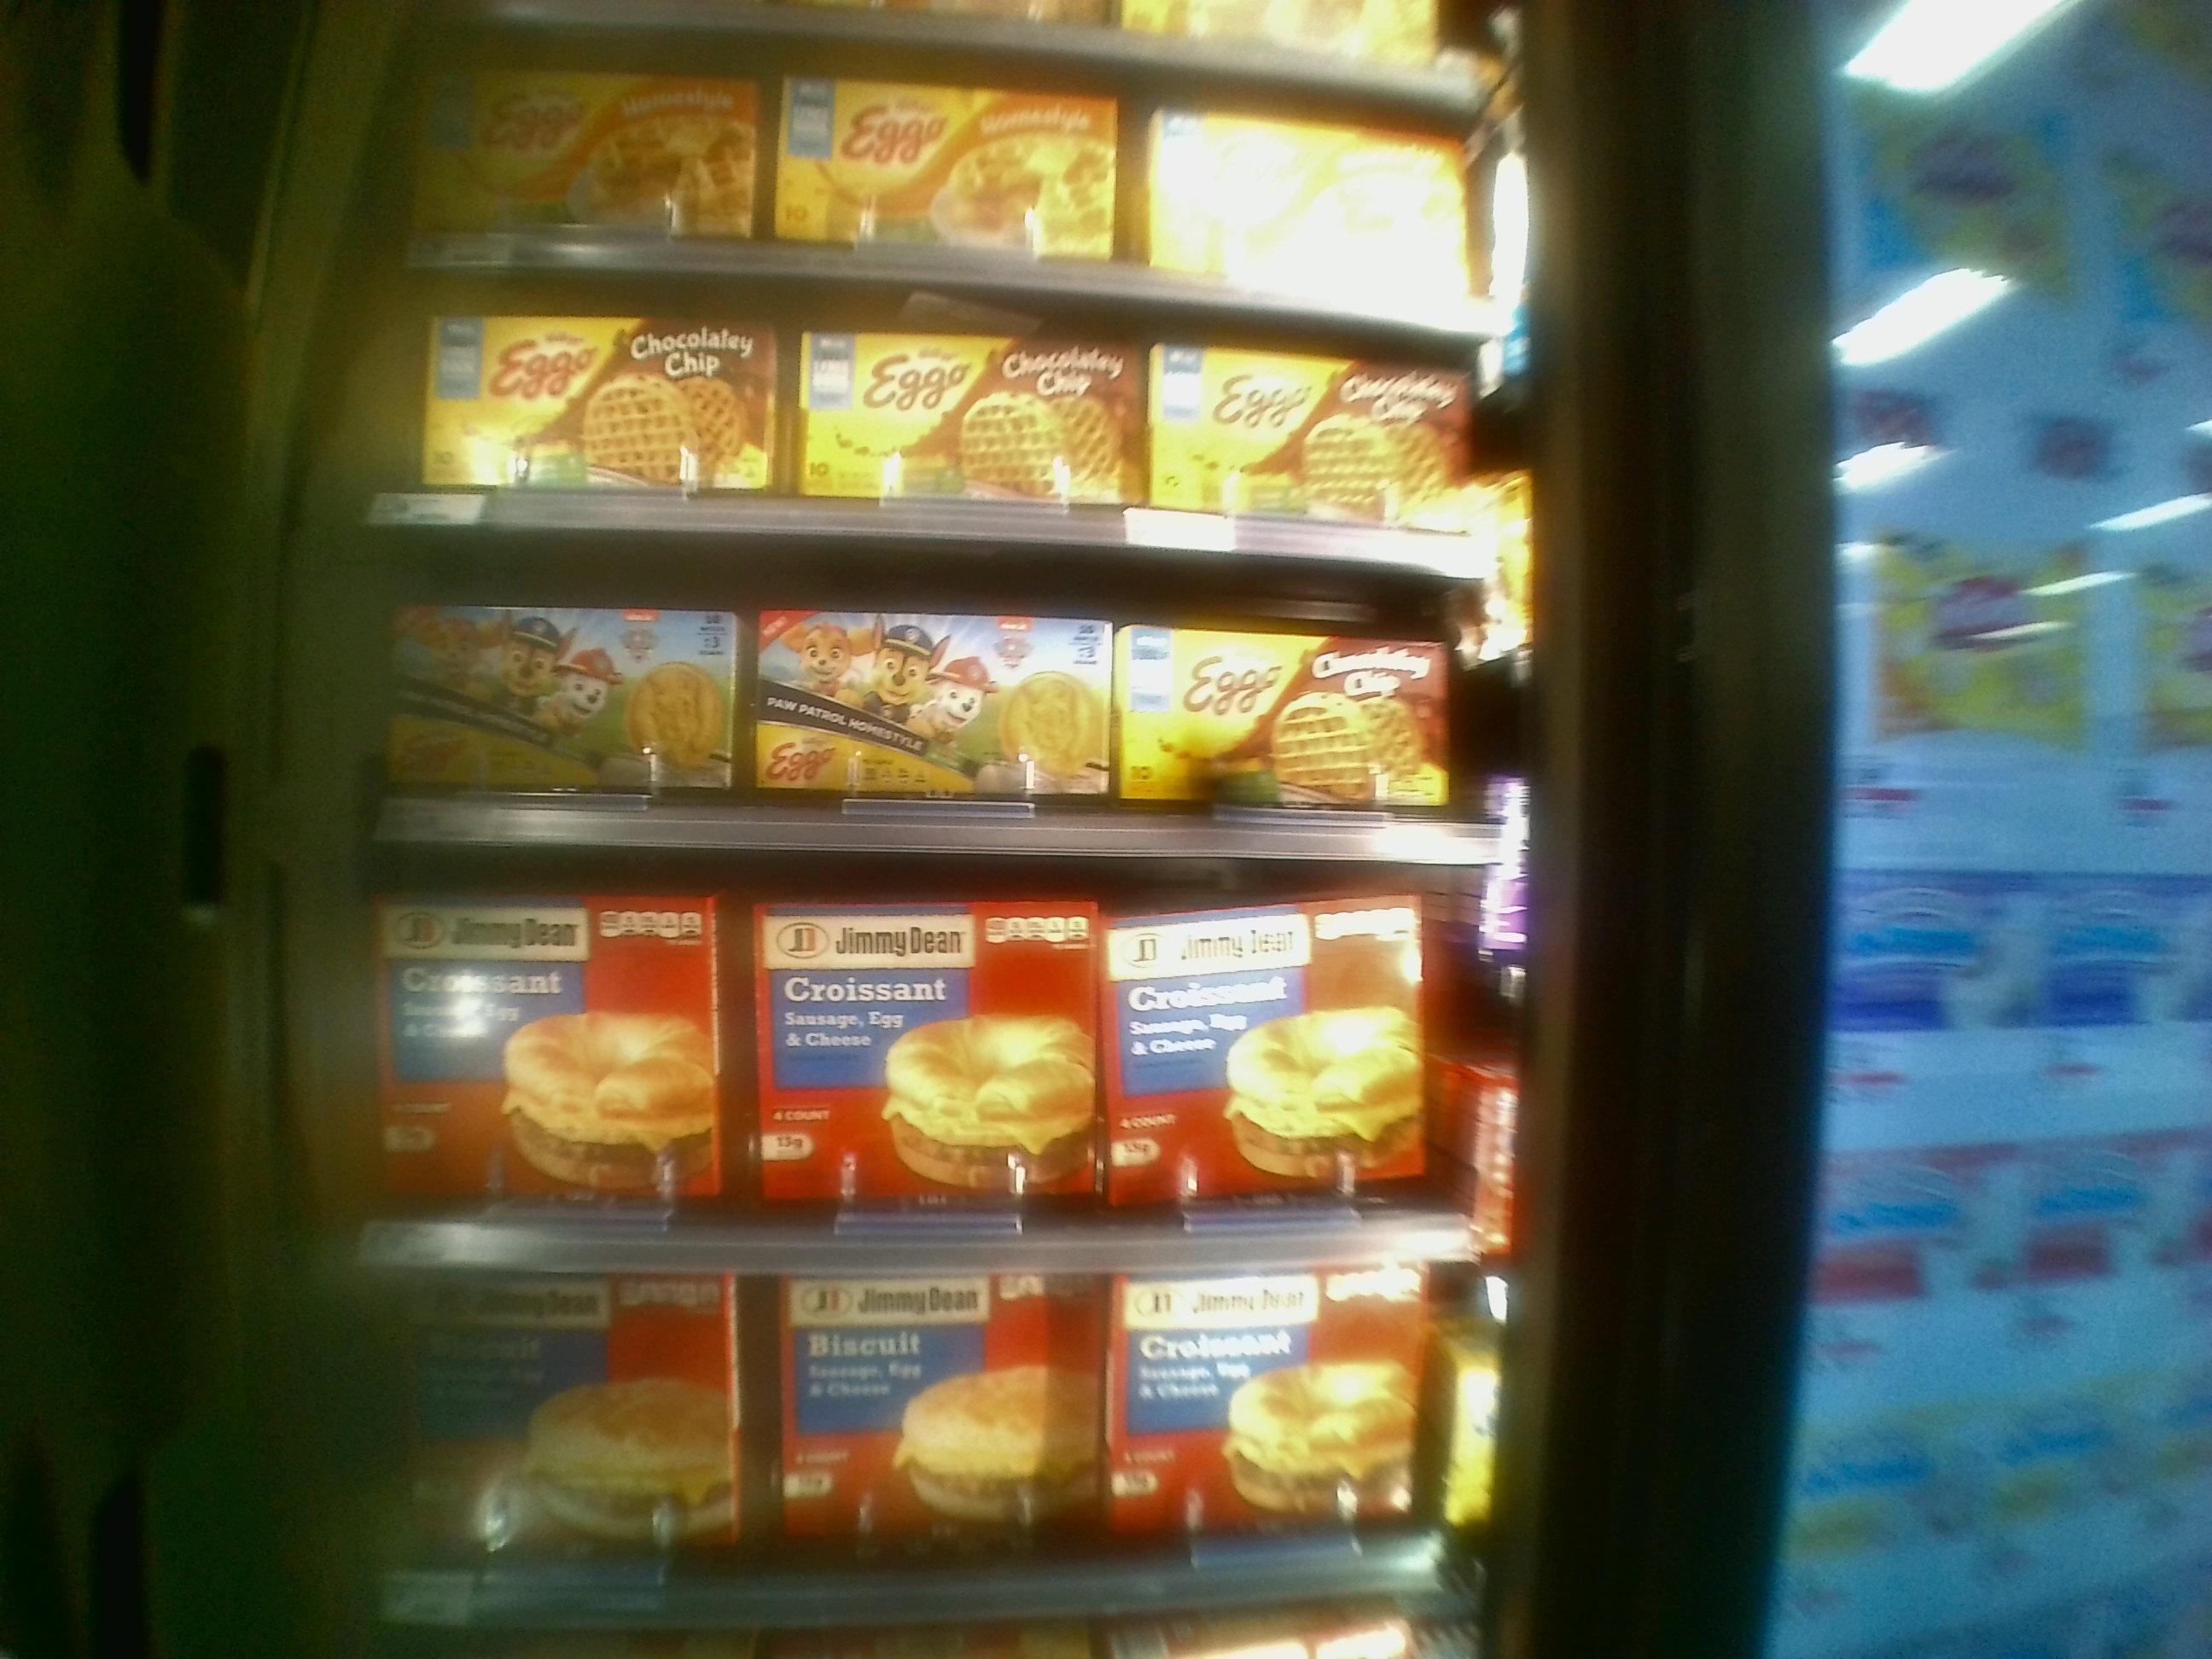shelf: (354, 849, 1519, 1270), (355, 538, 1510, 863), (359, 251, 1514, 566)
